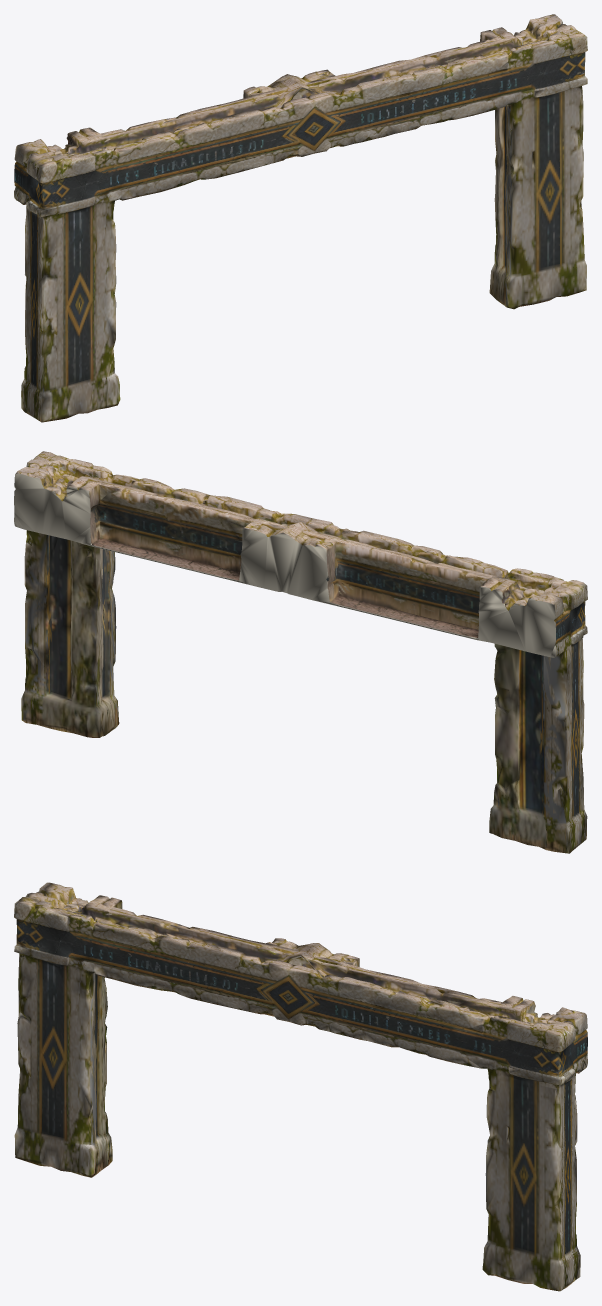
File: pilgrim_gateway.glb
The picture shows the model from 3 angles, top to bottom: view 1: azimuth 30°, elevation 25°; view 2: azimuth 150°, elevation 25°; view 3: azimuth 330°, elevation 25°; orthographic projection.
Visible parts, largest first — view 1: SanctuaryThinGateway; view 2: SanctuaryThinGateway; view 3: SanctuaryThinGateway.
Part boxes in pixels (box(x1,y1,x2,y2)): SanctuaryThinGateway: box(14, 14, 587, 422); SanctuaryThinGateway: box(14, 451, 587, 853); SanctuaryThinGateway: box(14, 882, 587, 1291).
Bounding box in the file's own units: 17 × 7.8 × 1.6.
2 materials, 1 textured.
